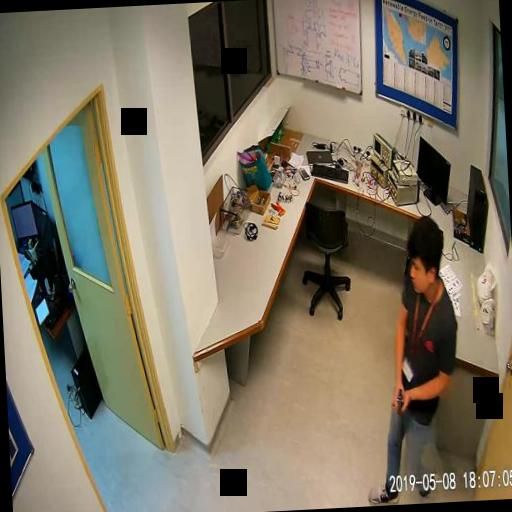Handgun: (389, 386, 406, 446)
